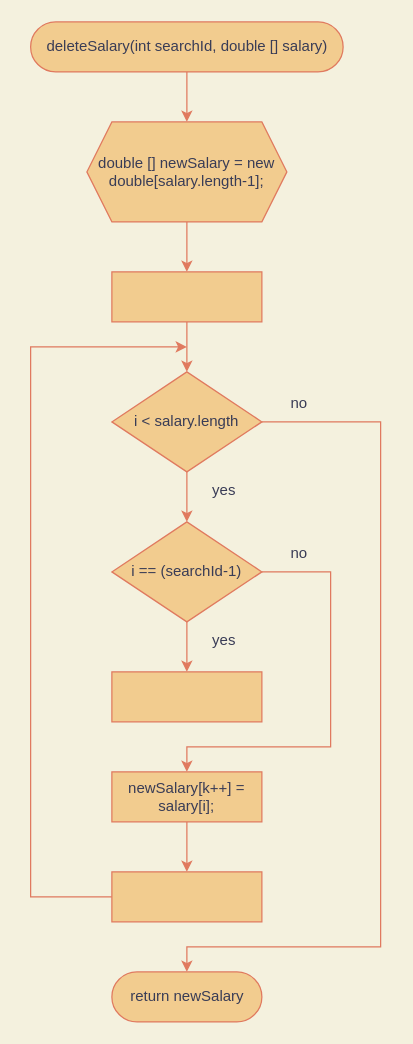
Image size: 413x1044. Some labels were removed from this diagram. The box of each missing label's shape, as (x1, y1, x2, y2) in pixels:
continue;: (111, 671, 262, 722)
i++: (111, 871, 262, 922)
int i = 0, k = 0: (111, 271, 262, 322)
